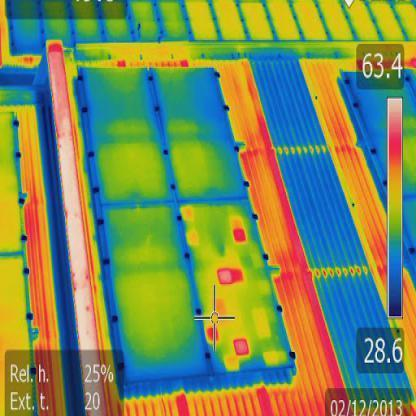anomaly: (201, 287, 250, 374), (210, 215, 253, 284), (179, 205, 202, 248), (250, 304, 273, 340), (262, 348, 288, 370)
